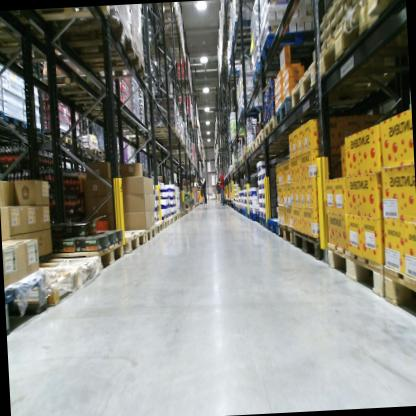pallet: (315, 0, 407, 75), (287, 56, 397, 107), (39, 9, 137, 56), (62, 36, 152, 84), (29, 255, 100, 312), (326, 237, 386, 299), (5, 265, 51, 339), (46, 237, 125, 278), (256, 26, 316, 64), (42, 68, 107, 101), (381, 257, 416, 318), (0, 35, 66, 65), (272, 94, 326, 130), (261, 109, 317, 142), (291, 224, 327, 264), (112, 225, 157, 255), (33, 6, 114, 22), (0, 12, 43, 42), (249, 58, 283, 87), (68, 95, 117, 115), (255, 125, 293, 148), (229, 18, 263, 41), (362, 0, 403, 17), (251, 137, 291, 154), (144, 122, 179, 139), (50, 127, 75, 149), (276, 216, 294, 243), (239, 103, 269, 119), (19, 115, 43, 134), (152, 3, 179, 19), (266, 215, 282, 237), (5, 111, 25, 127), (226, 68, 247, 83), (66, 134, 84, 149), (84, 145, 102, 157), (153, 219, 163, 235), (230, 132, 243, 143), (245, 142, 253, 159), (259, 214, 268, 229), (161, 215, 170, 229), (248, 209, 256, 221), (254, 211, 260, 226), (166, 214, 174, 225), (244, 207, 250, 219), (175, 210, 181, 220), (0, 108, 3, 122), (241, 208, 246, 216), (173, 211, 177, 221), (179, 210, 184, 218), (242, 153, 247, 161)
pallet_truck: (195, 177, 204, 203)
